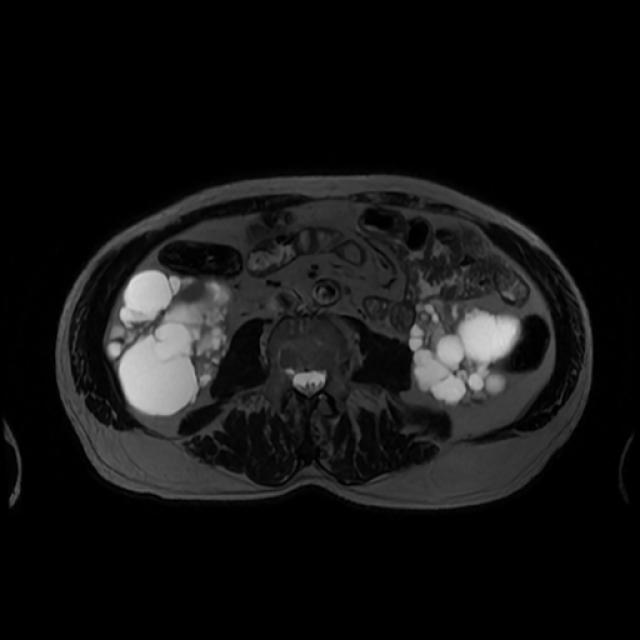sag: (106, 270, 233, 417)
sol: (407, 299, 523, 404)
